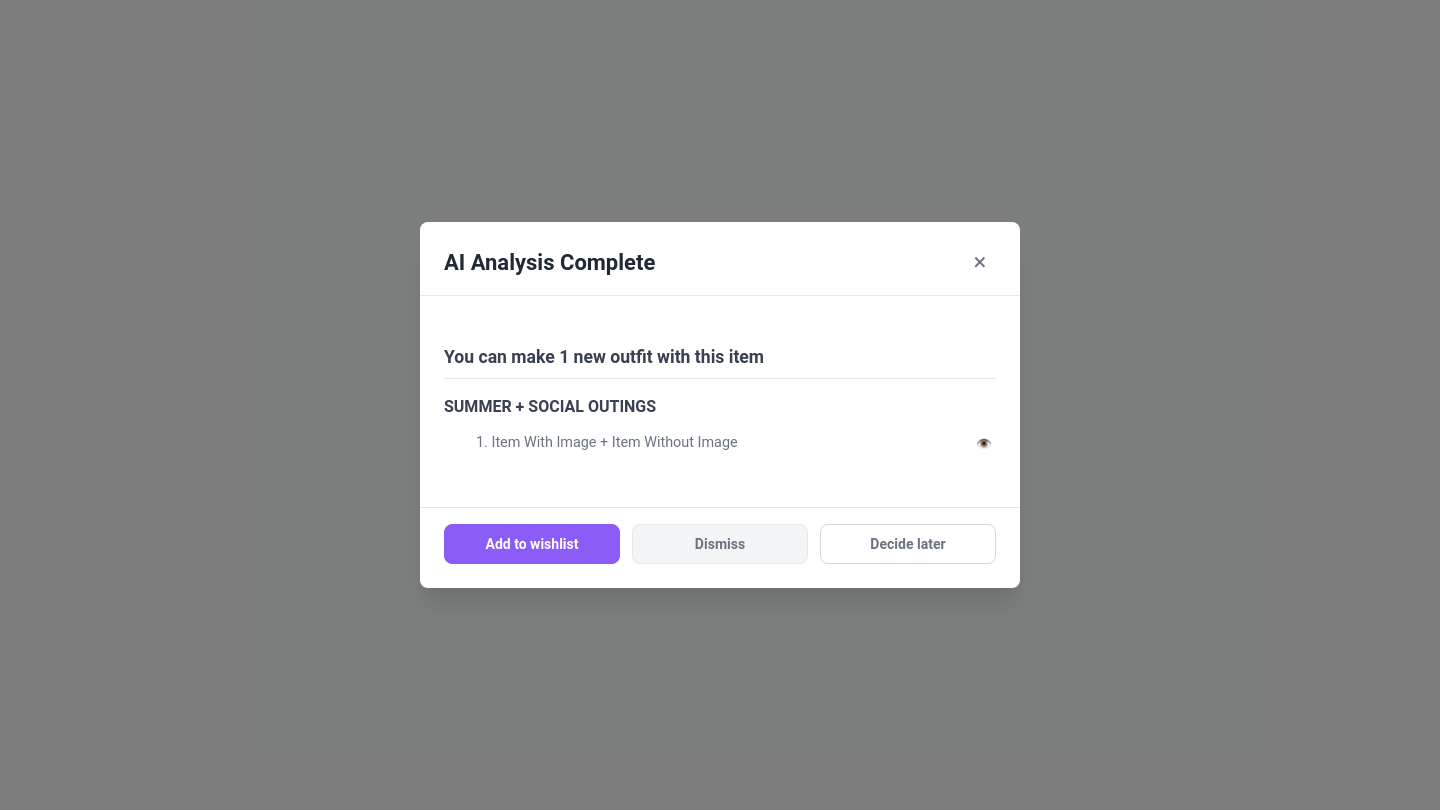
AICheckResultModal Card Rendering › Collapsible Outfit Images › should show placeholder for items without images
// Expand the outfit images
Click the button "👁️" at [984, 443], box [972,431,996,455]
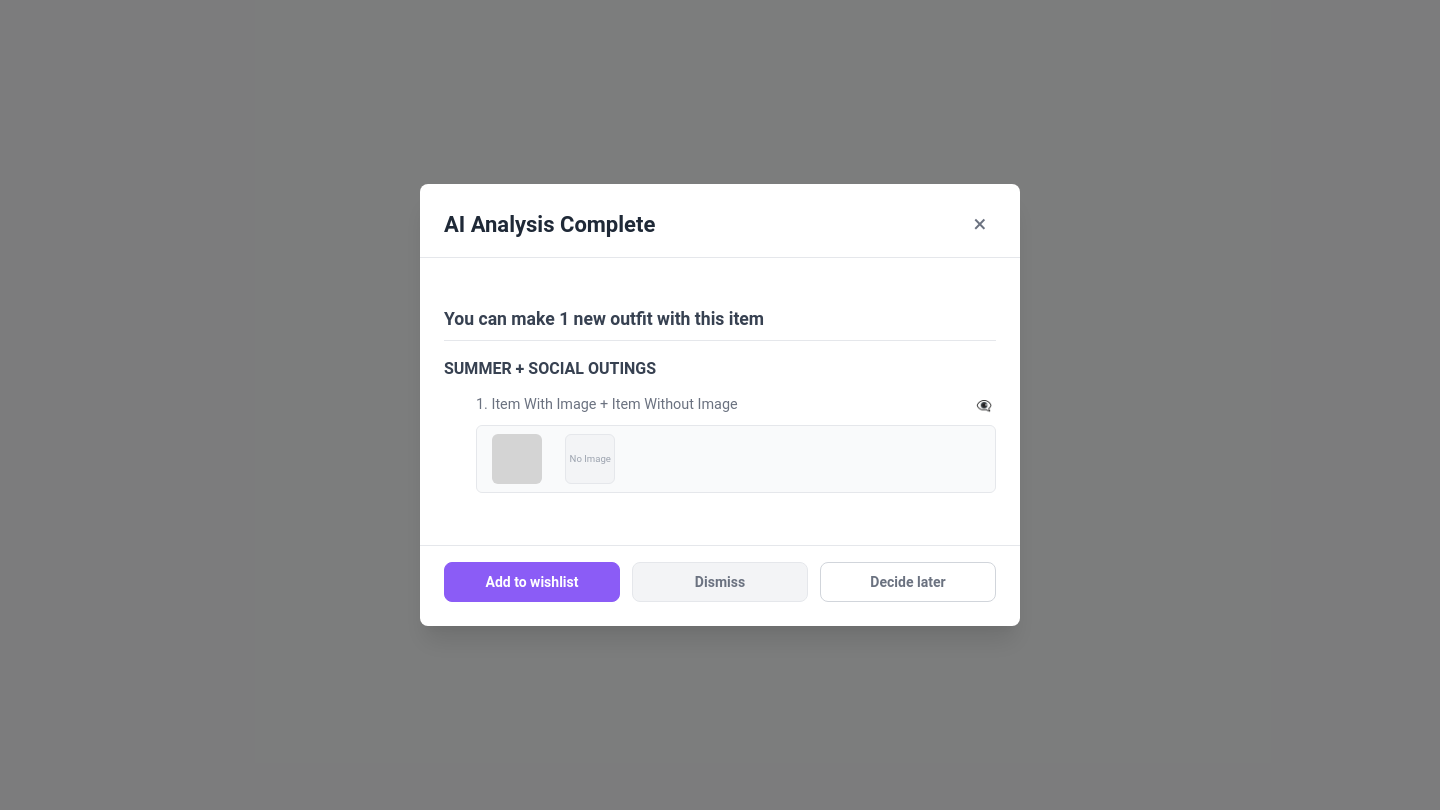
Expected: the text "No Image" is shown, [565,434,615,484]
